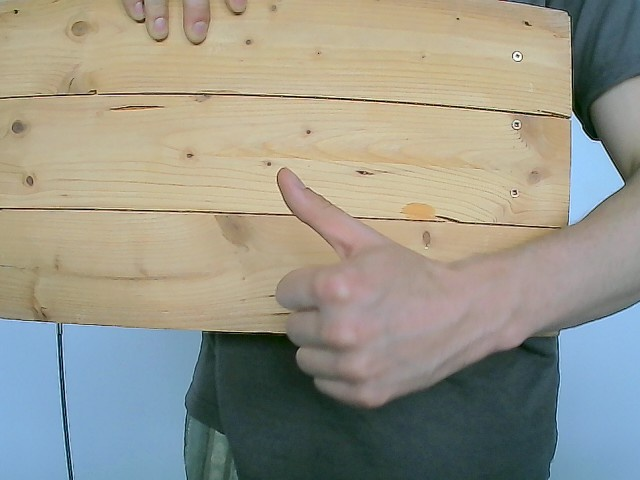up: (271, 165, 496, 410)
